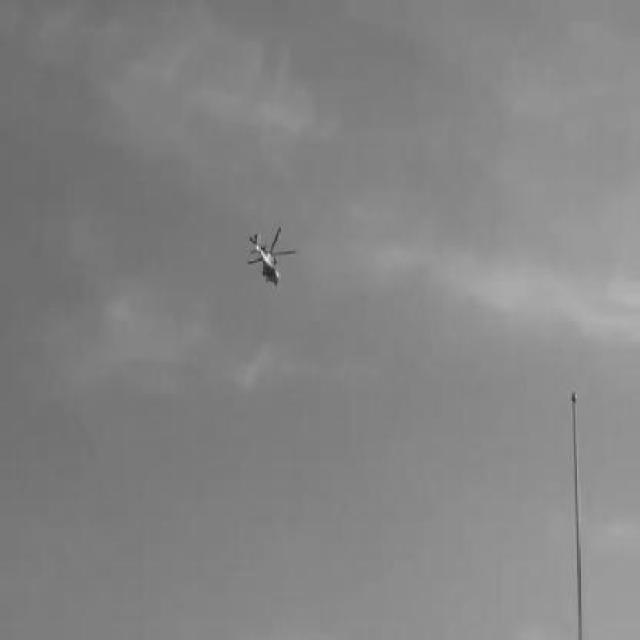helikopter: (248, 231, 292, 286)
